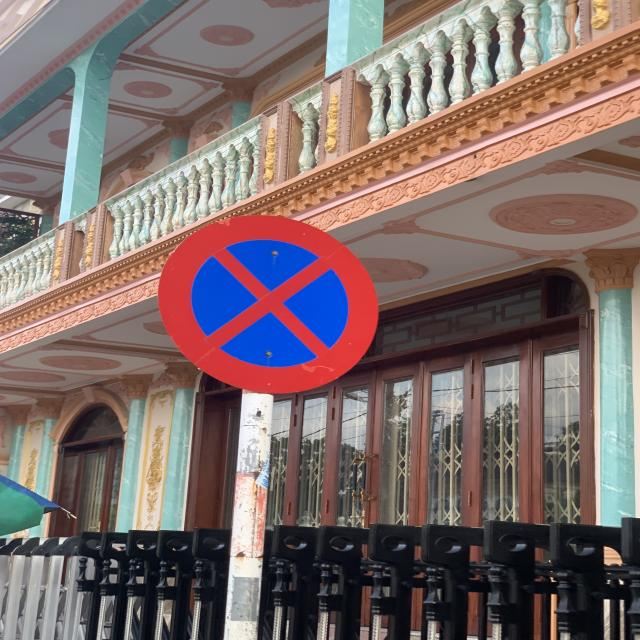Cam_Dung_Va_Dau_Xe: (159, 212, 378, 396)
